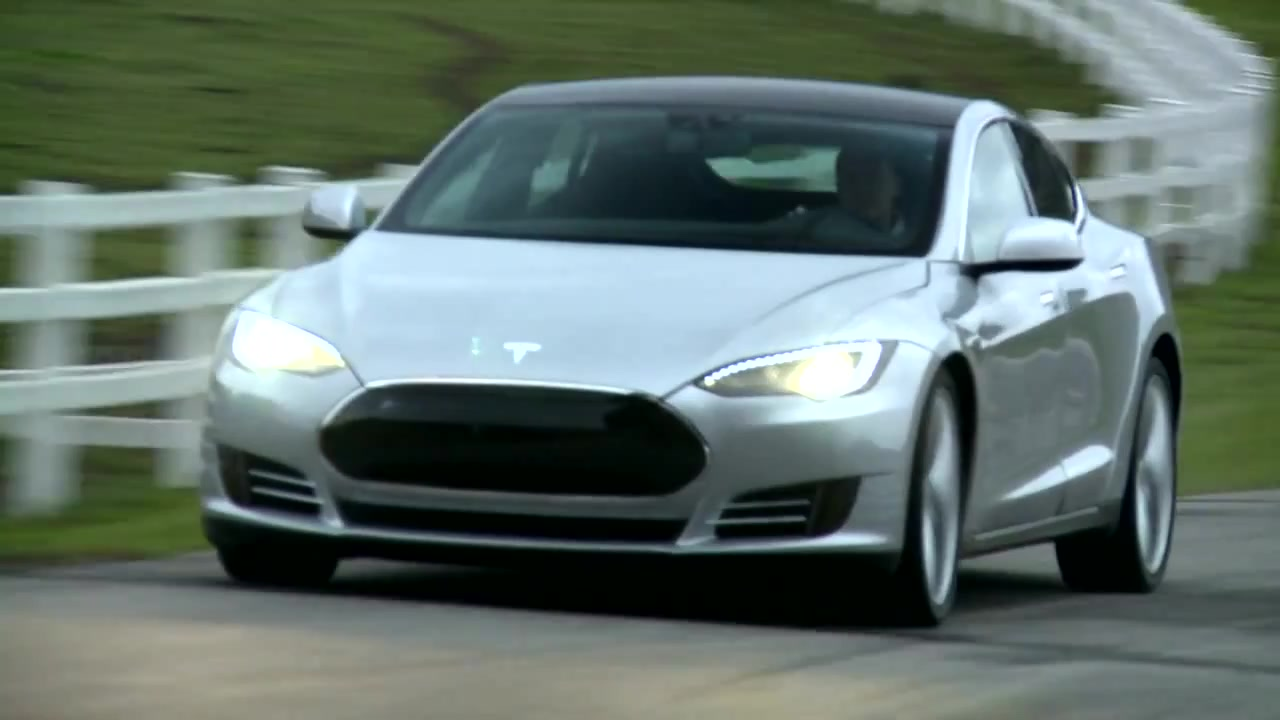car: (195, 70, 1188, 637)
